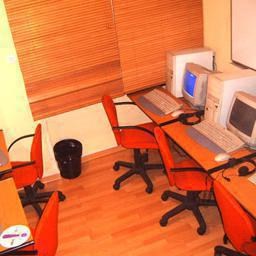Bote de Basura: (56, 137, 85, 181)
Ventana: (6, 1, 207, 122)
